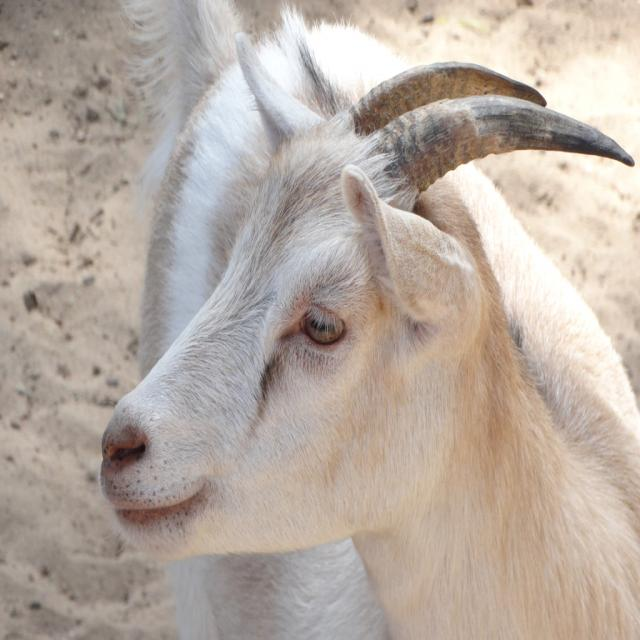Goat: (103, 32, 639, 640)
